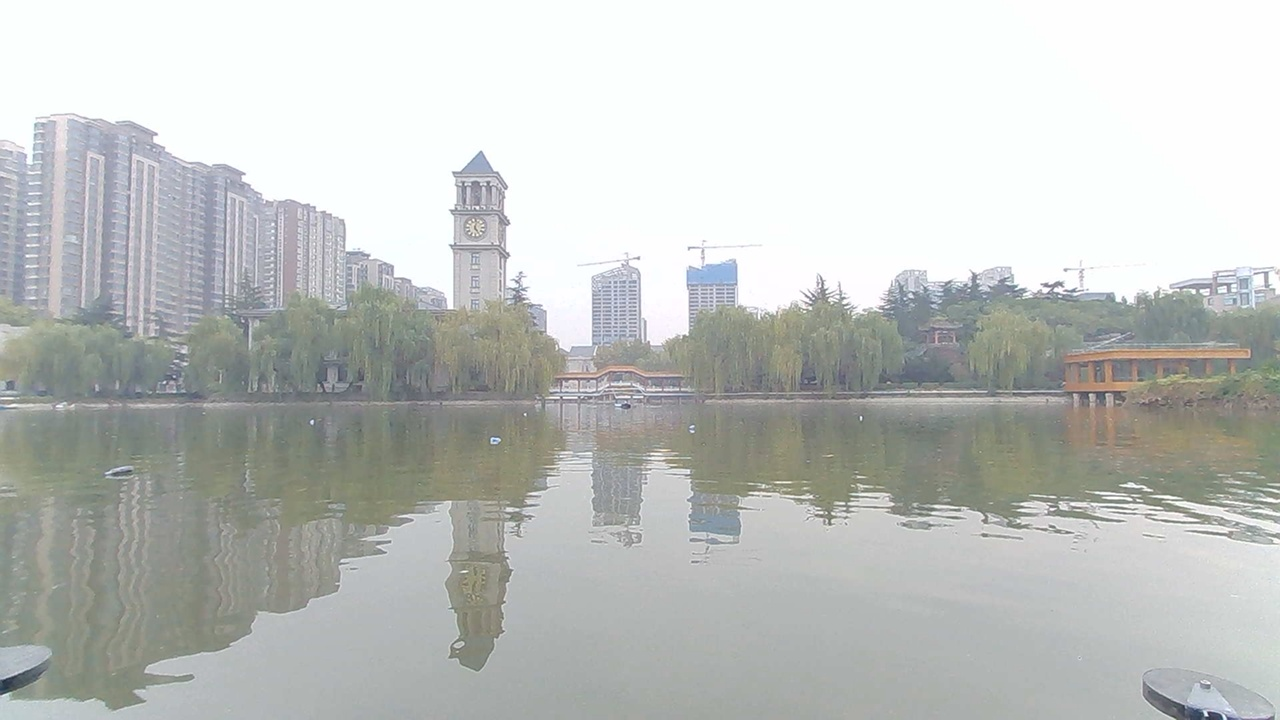bottle: (86, 454, 159, 487), (684, 406, 718, 433), (295, 407, 333, 431), (843, 403, 873, 429), (480, 434, 517, 455), (521, 406, 550, 428)
